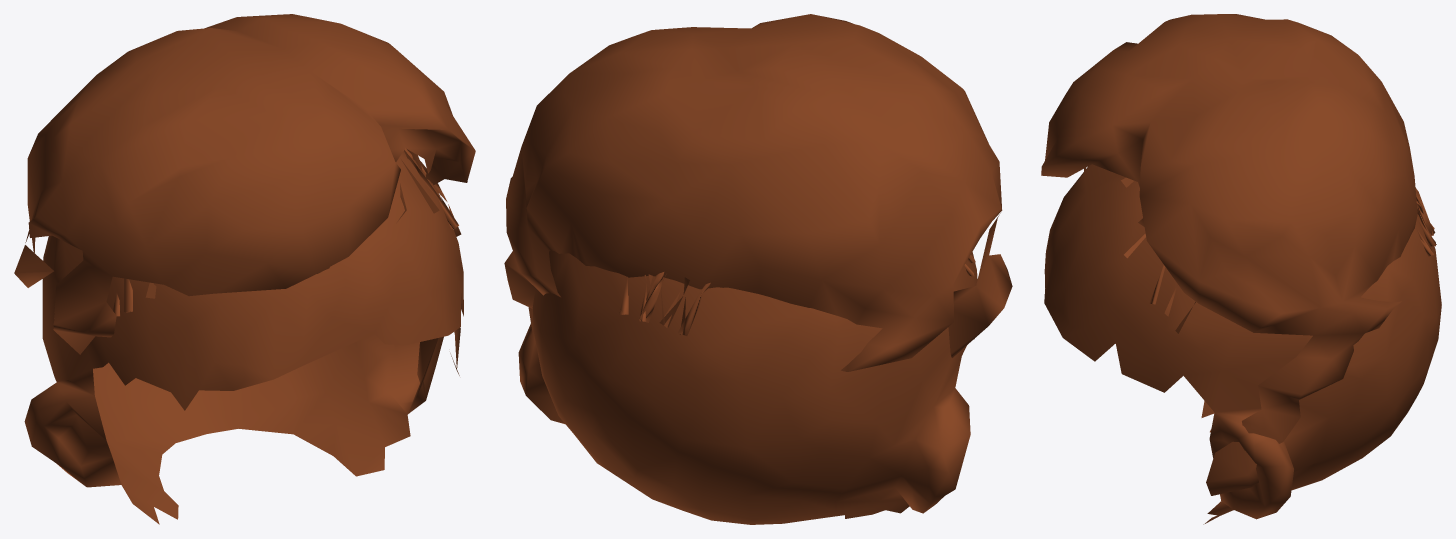
Rendered from braid.glb.
3 views of the same model, side by side, from view 1: azimuth 30°, elevation 25°; view 2: azimuth 150°, elevation 25°; view 3: azimuth 270°, elevation 25° (orthographic). The views are drawn at different scales.
Visible parts, largest first — view 1: Hair, HairScalp, HairPulledRootStrands; view 2: Hair, HairScalp, HairPulledRootStrands; view 3: Hair, HairScalp, HairPulledRootStrands.
Boxes of the visible parts, <box> form: Hair: <box>14,14,475,375</box>; HairScalp: <box>24,151,463,524</box>; HairPulledRootStrands: <box>113,148,461,316</box>; Hair: <box>504,14,1012,371</box>; HairScalp: <box>518,251,977,524</box>; HairPulledRootStrands: <box>619,254,975,335</box>; Hair: <box>1041,14,1417,495</box>; HairScalp: <box>1044,164,1441,524</box>; HairPulledRootStrands: <box>1121,177,1436,333</box>.
Bounding box in the file's own units: 0.528 × 0.5141 × 0.4397.
